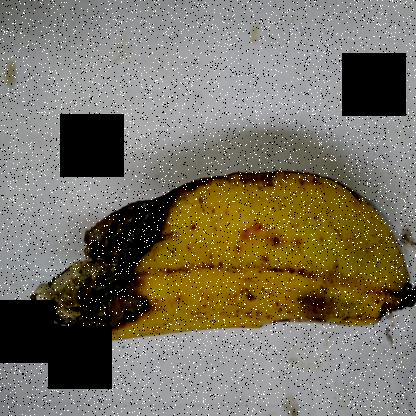rotten: (19, 129, 208, 356), (275, 260, 416, 359)
